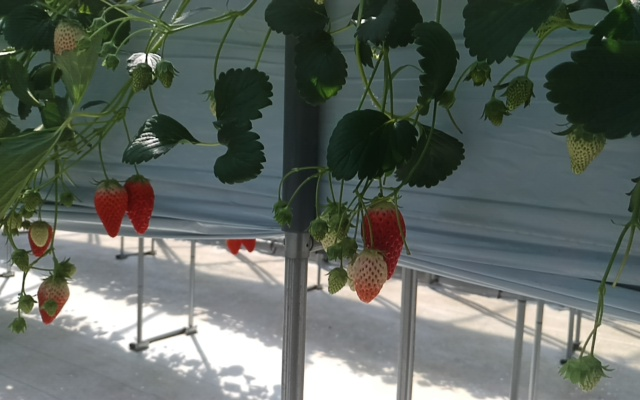GreenStrawberry: (564, 119, 607, 176), (316, 202, 352, 259), (352, 250, 388, 304), (36, 275, 70, 325), (51, 18, 84, 59), (504, 74, 535, 112), (576, 356, 604, 394), (483, 98, 508, 129), (326, 267, 348, 295), (308, 216, 329, 244), (21, 188, 43, 213), (3, 208, 22, 235), (55, 259, 78, 281), (31, 222, 49, 248), (11, 250, 30, 272), (17, 294, 34, 314), (41, 301, 58, 318)
MatureStrawberry: (361, 198, 407, 284), (92, 178, 128, 238), (123, 174, 156, 237), (27, 218, 54, 257)
